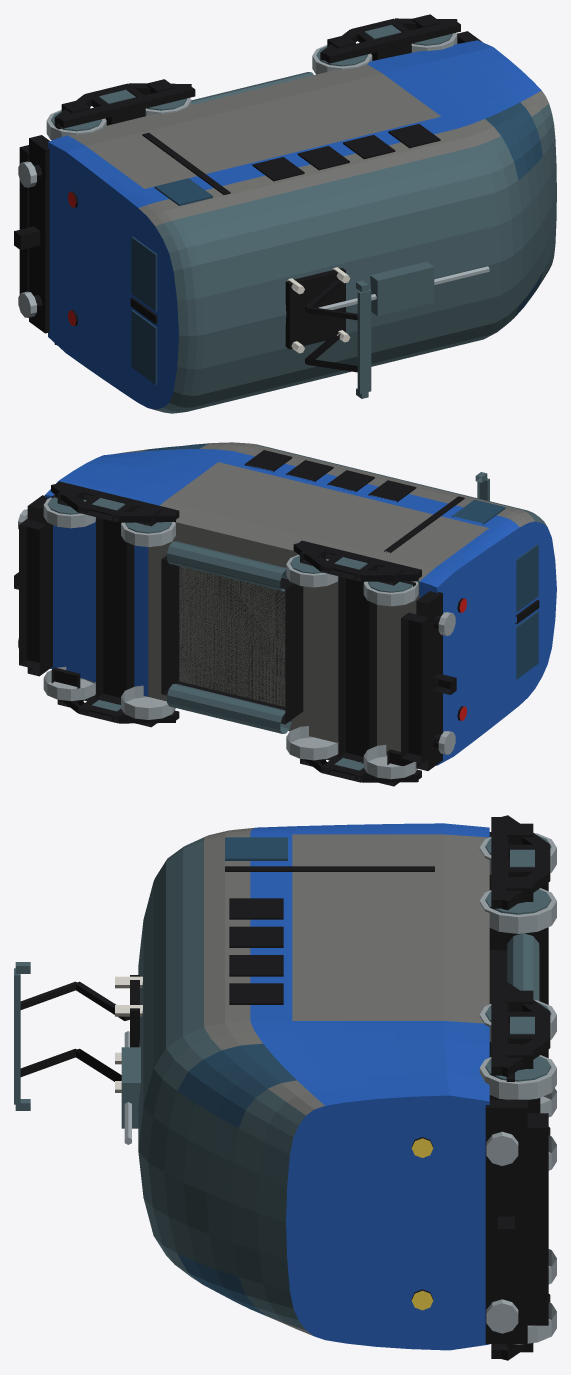
The picture shows the model from 3 angles, top to bottom: view 1: azimuth 30°, elevation 25°; view 2: azimuth 150°, elevation 25°; view 3: azimuth 270°, elevation 25°; orthographic projection. The views are drawn at different scales.
Visible parts, largest first — view 1: default_body, default_bogie1, default_bogie-1, default_beam-1, default_pan_base-1.5, default_breaker, default_screen-1-0.62, default_screen-10.62, default_pan_head-1.5, default_buffers-1, default_plough-1, default_side1_-3.30_3.85_glass_dark (+7 smaller); view 2: default_body, default_bogie-1, default_bogie1, default_tank, default_plough1, default_plough-1, default_air_tank-1, default_air_tank1, default_beam-1, default_beam1, default_buffers-1, default_screen-1-0.62 (+8 smaller); view 3: default_body, default_bogie1, default_beam1, default_bogie-1, default_plough1, default_buffers1, default_air_tank1, default_side1_-3.30_3.85_glass_dark, default_breaker, default_side1_-2.51_2.10_black, default_side1_0.00_3.90_black, default_side1_0.80_3.90_black (+6 smaller).
Boxes of the visible parts, x1,y1,x2,y2 form: default_body: [48, 40, 556, 413]; default_bogie1: [312, 14, 460, 74]; default_bogie-1: [46, 79, 195, 344]; default_beam-1: [29, 135, 49, 333]; default_pan_base-1.5: [285, 268, 345, 349]; default_breaker: [370, 261, 434, 316]; default_screen-1-0.62: [131, 310, 157, 384]; default_screen-10.62: [131, 236, 157, 311]; default_pan_head-1.5: [357, 289, 371, 393]; default_buffers-1: [14, 161, 42, 317]; default_plough-1: [19, 145, 28, 294]; default_side1_-3.30_3.85_glass_dark: [154, 178, 212, 205]; default_body: [45, 442, 556, 765]; default_bogie-1: [286, 540, 421, 786]; default_bogie1: [43, 481, 179, 727]; default_tank: [161, 555, 303, 724]; default_plough1: [19, 519, 47, 670]; default_plough-1: [401, 612, 429, 763]; default_air_tank-1: [167, 683, 291, 733]; default_air_tank1: [167, 541, 287, 591]; default_beam-1: [416, 591, 442, 770]; default_beam1: [27, 495, 52, 676]; default_buffers-1: [432, 612, 456, 754]; default_screen-1-0.62: [515, 611, 538, 679]; default_body: [138, 823, 489, 1350]; default_bogie1: [479, 982, 556, 1360]; default_beam1: [485, 1099, 527, 1343]; default_bogie-1: [479, 815, 556, 1170]; default_plough1: [527, 1113, 548, 1325]; default_buffers1: [486, 1131, 518, 1333]; default_air_tank1: [507, 933, 539, 1000]; default_side1_-3.30_3.85_glass_dark: [225, 837, 287, 860]; default_breaker: [121, 1047, 140, 1128]; default_side1_-2.51_2.10_black: [225, 866, 434, 871]; default_side1_0.00_3.90_black: [229, 955, 283, 976]; default_side1_0.80_3.90_black: [229, 983, 283, 1004].
Size of the model in its own units: 8.46 by 3.9 by 6.46.
